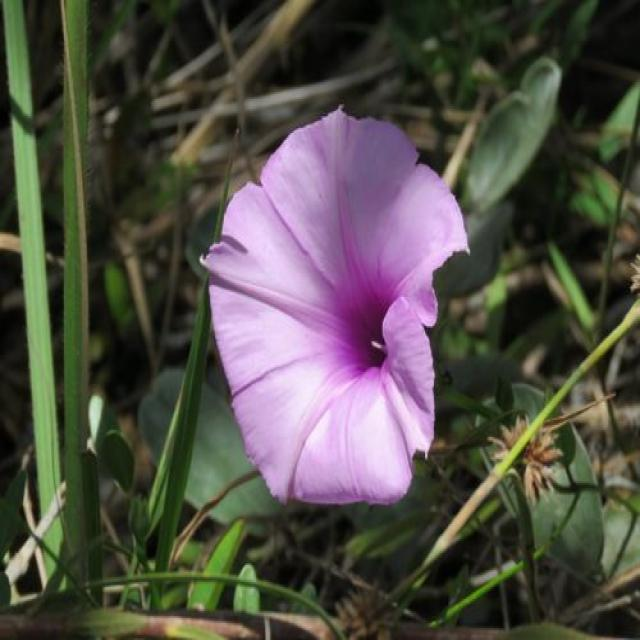ipomoea: (197, 102, 474, 512)
